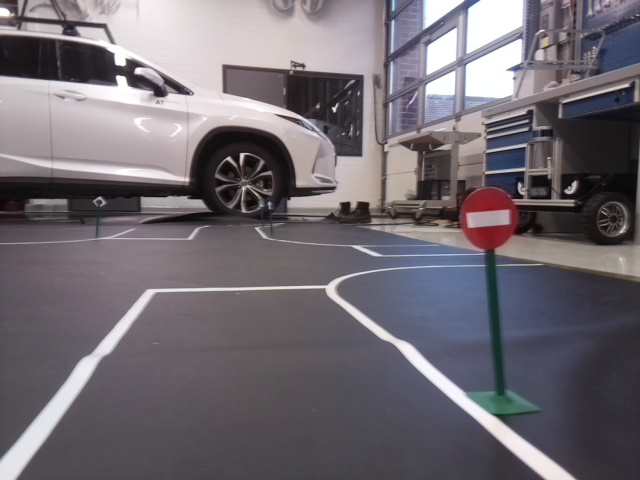NoEntry: (458, 188, 517, 249)
OneWay: (263, 198, 274, 210)
